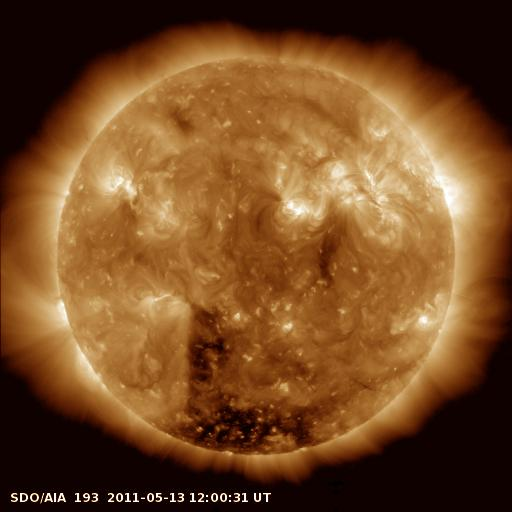coronal_hole: (163, 307, 325, 452)
